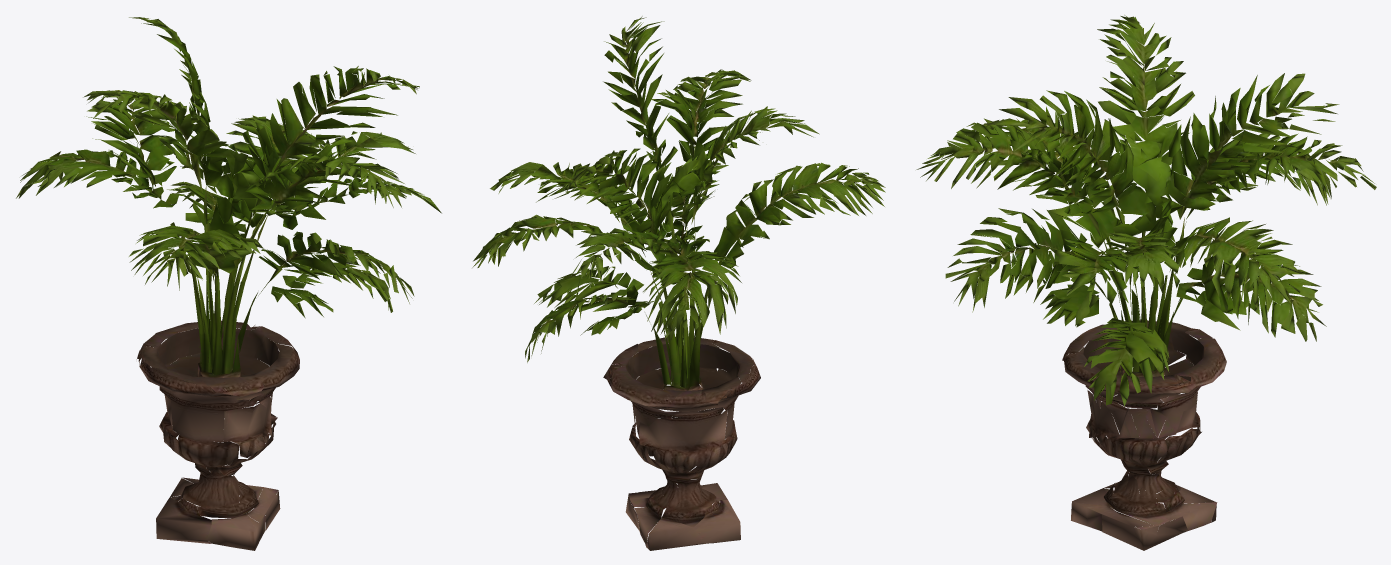
Rendered from cp_palm.glb.
The picture shows the model from 3 angles, left to right: view 1: azimuth 30°, elevation 25°; view 2: azimuth 150°, elevation 25°; view 3: azimuth 270°, elevation 25°; orthographic projection. The views are drawn at different scales.
Parts seen in each view (by area): view 1: tripo_node_67f27b2d-9220-4011-a989-ff607e01b5a8; view 2: tripo_node_67f27b2d-9220-4011-a989-ff607e01b5a8; view 3: tripo_node_67f27b2d-9220-4011-a989-ff607e01b5a8.
Part boxes in pixels (x1,y1,x2,y2): tripo_node_67f27b2d-9220-4011-a989-ff607e01b5a8: (16,17,441,550); tripo_node_67f27b2d-9220-4011-a989-ff607e01b5a8: (472,16,885,550); tripo_node_67f27b2d-9220-4011-a989-ff607e01b5a8: (916,15,1376,550).
Bounding box in the file's own units: 0.7724 × 1 × 0.8891.
Materials: 1 (1 with a texture image).
